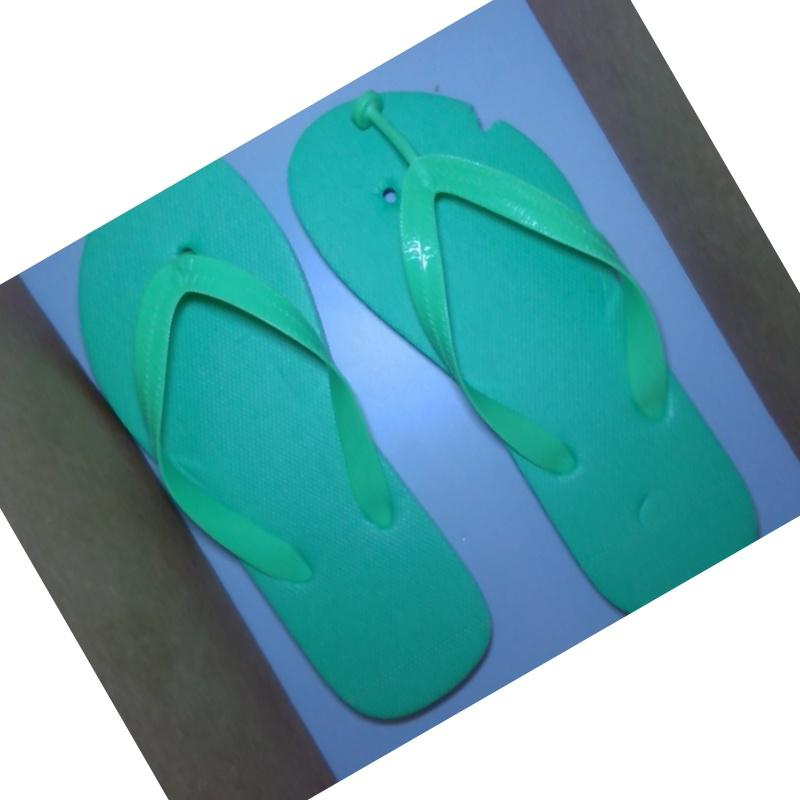chipped: (457, 89, 518, 144)
detached: (347, 84, 406, 149)
